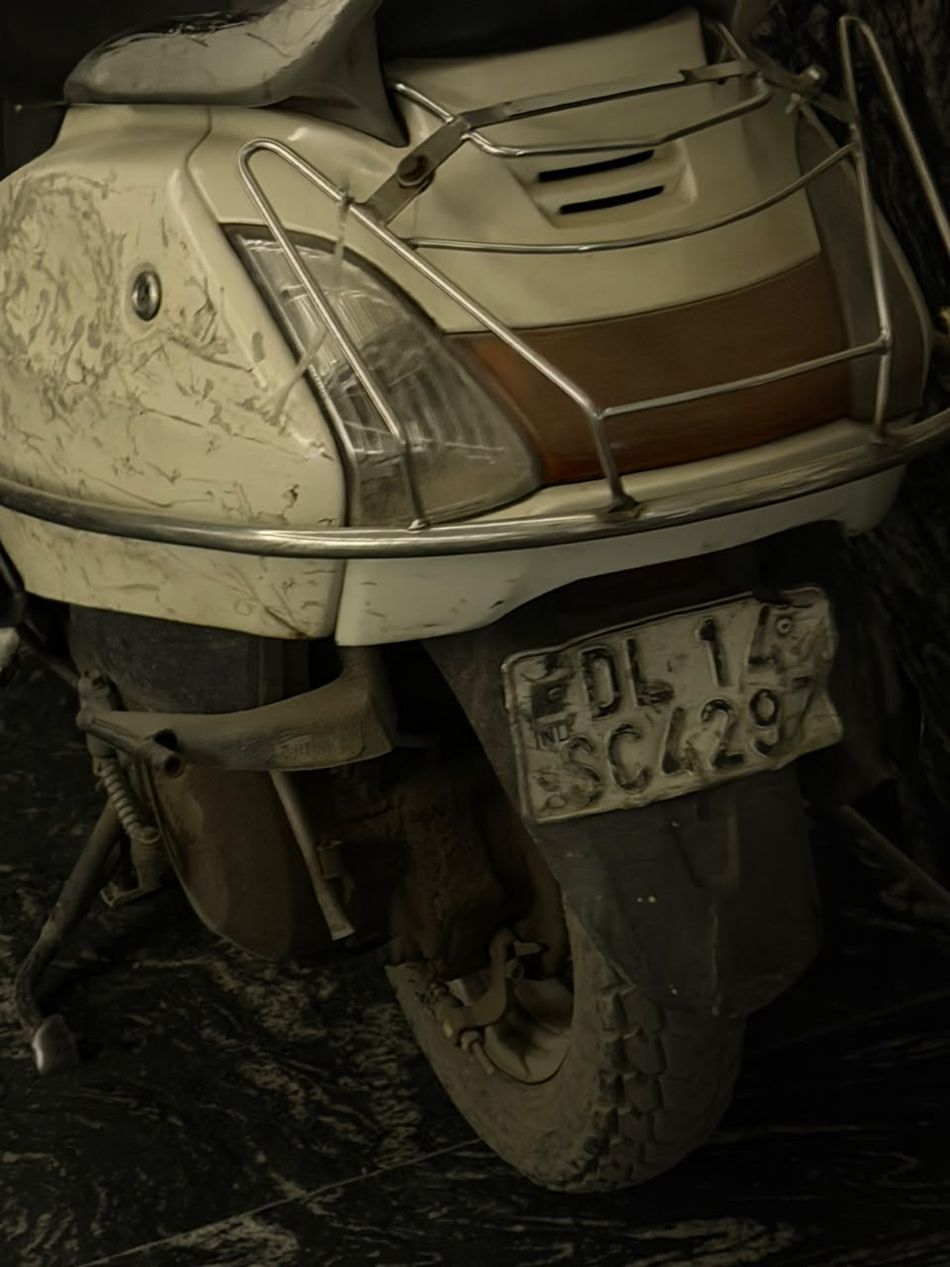vehicle: (505, 588, 845, 826)
